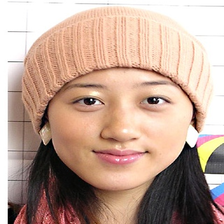no_mask: (52, 85, 187, 181)
